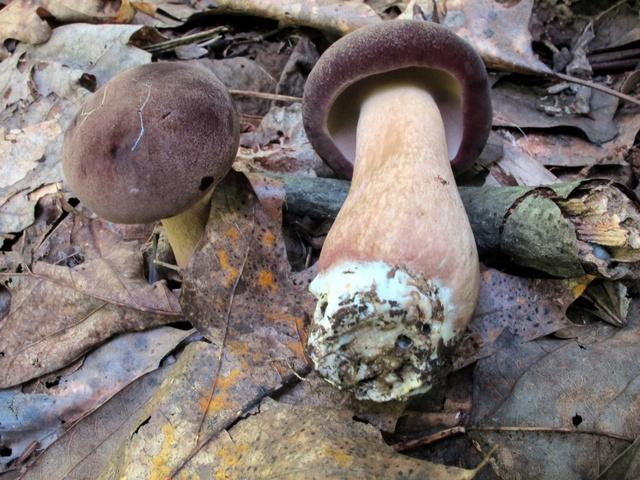Non-edible Mushroom: (300, 17, 493, 407), (60, 59, 241, 272)
